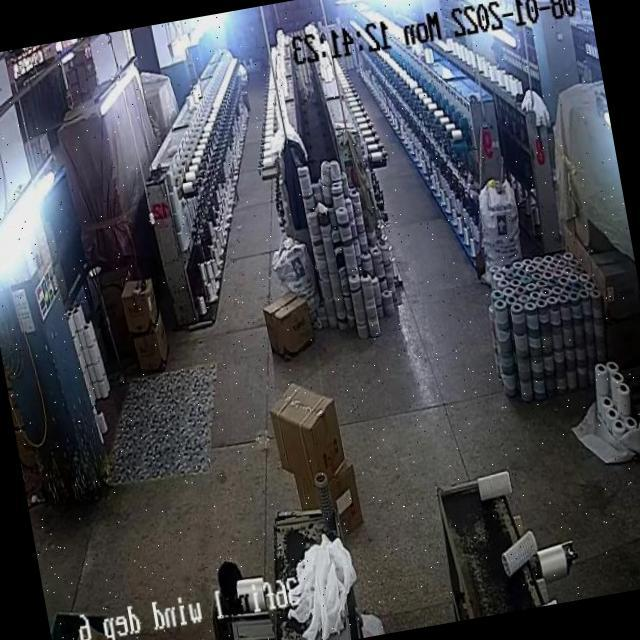person: (208, 560, 246, 634)
